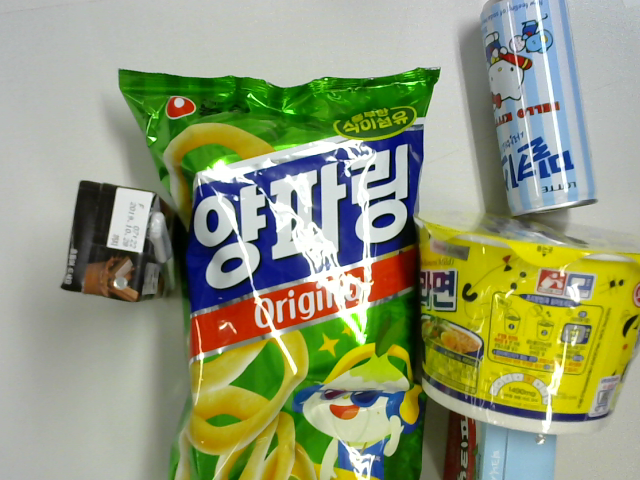Hush_Choco_Drink: (61, 169, 176, 306)
Jinlamyeon_Mild_Taste_Large_Cup: (397, 209, 640, 426)
Milkies_250ml: (477, 1, 598, 223)
Oninon_Ring: (108, 62, 454, 480)
Picnic_Apple: (441, 403, 564, 480)
